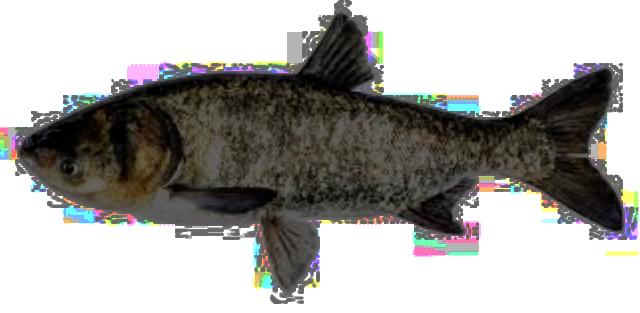Healthy Fish: (18, 14, 620, 287)
